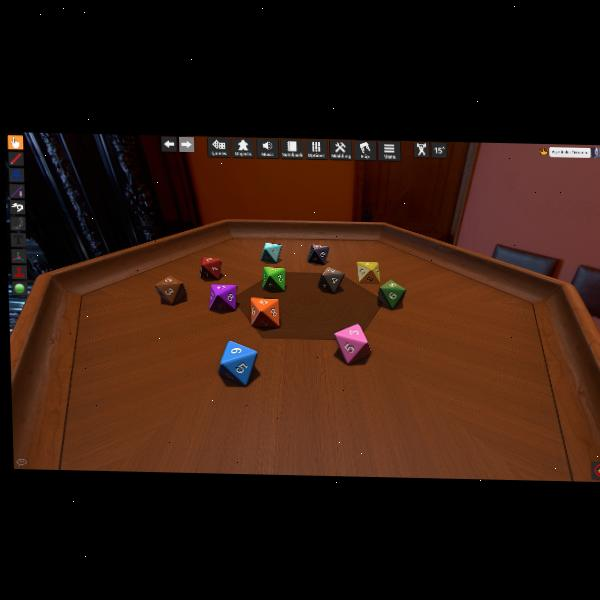d8: (217, 339, 258, 385), (332, 324, 368, 363), (155, 274, 186, 305), (249, 297, 279, 326), (210, 283, 238, 311), (378, 280, 405, 309), (318, 265, 344, 293), (262, 266, 286, 292), (357, 261, 380, 283), (200, 255, 222, 278), (260, 241, 282, 263), (307, 244, 326, 264)
